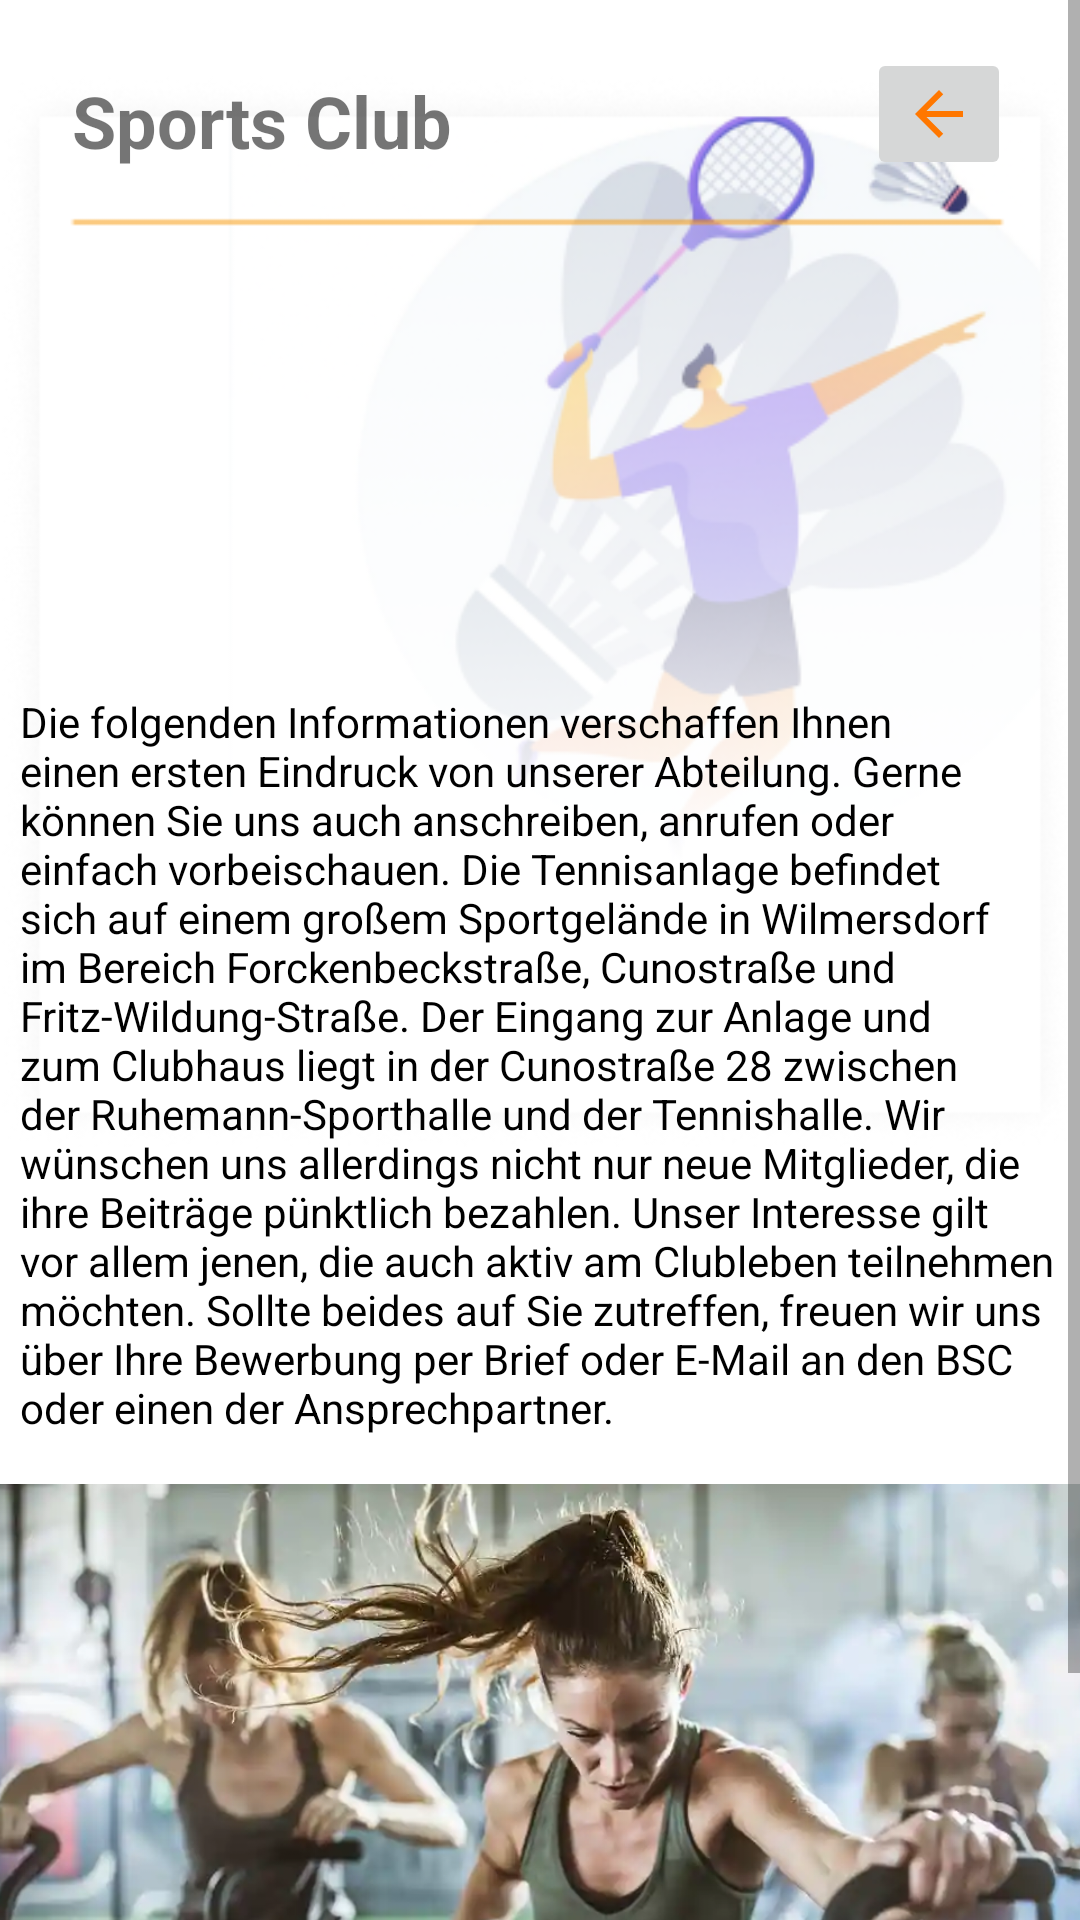

Screen size 1080×1920. Icon name, then its box in pixels as (x1, y1, x2, y2):
arrow back: (873, 66, 999, 180)
